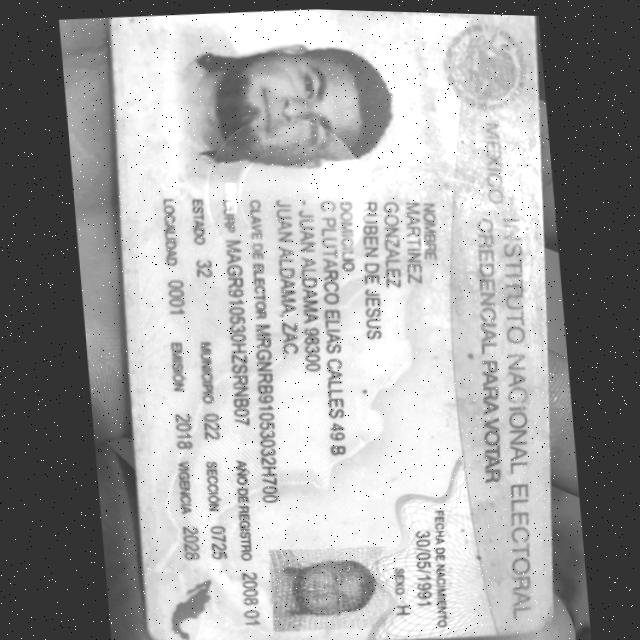card: (109, 9, 552, 640)
